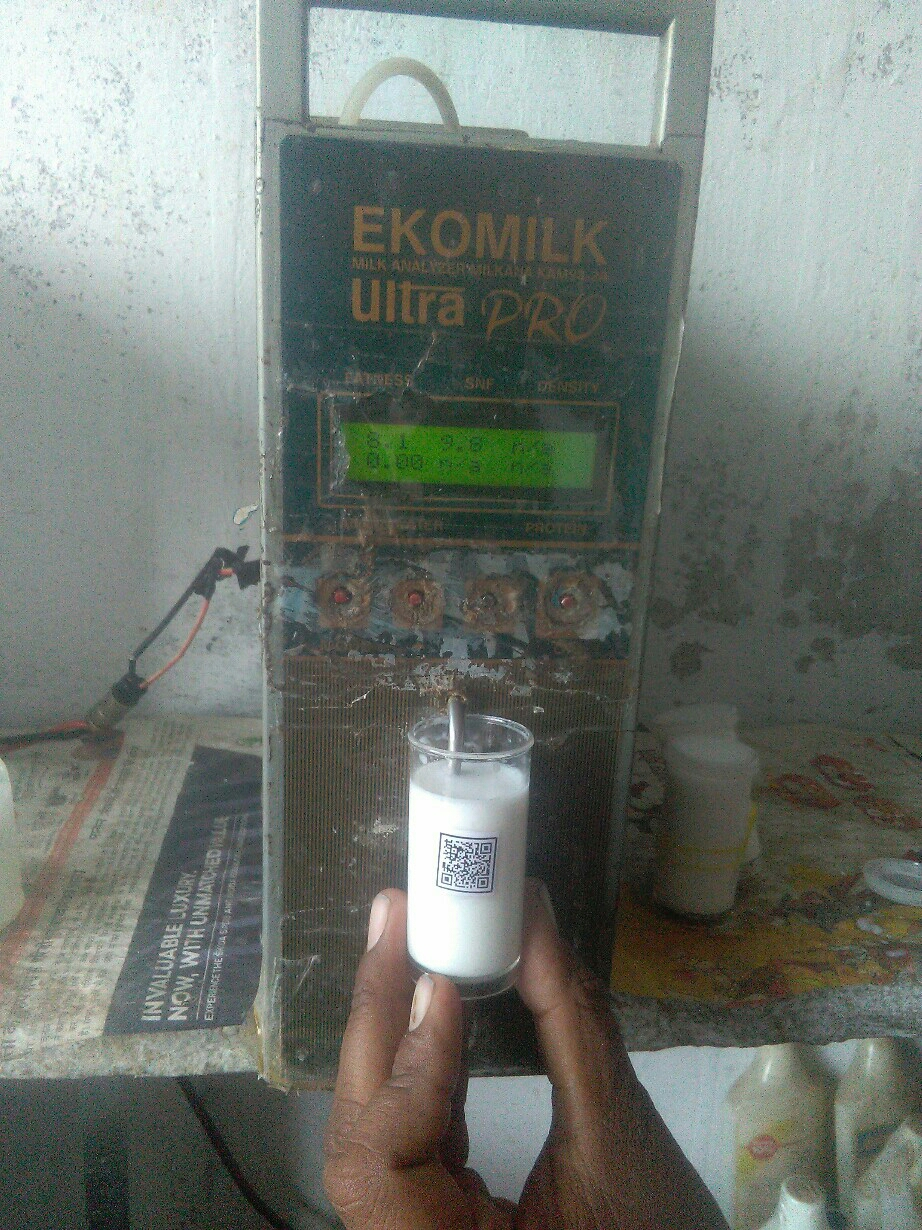lcd: (330, 420, 605, 496)
qr: (432, 832, 507, 899)
